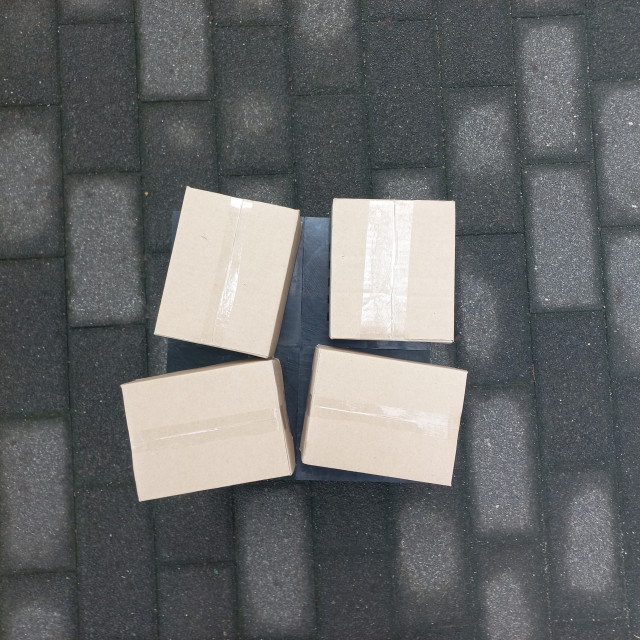box: (345, 137, 521, 283), (340, 280, 486, 456), (172, 153, 337, 292), (184, 297, 311, 443)
